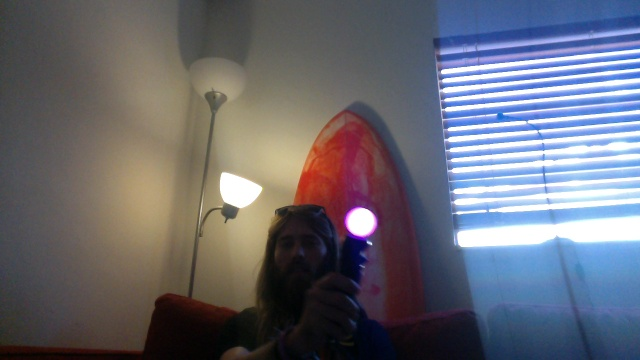wand: (344, 208, 376, 238)
